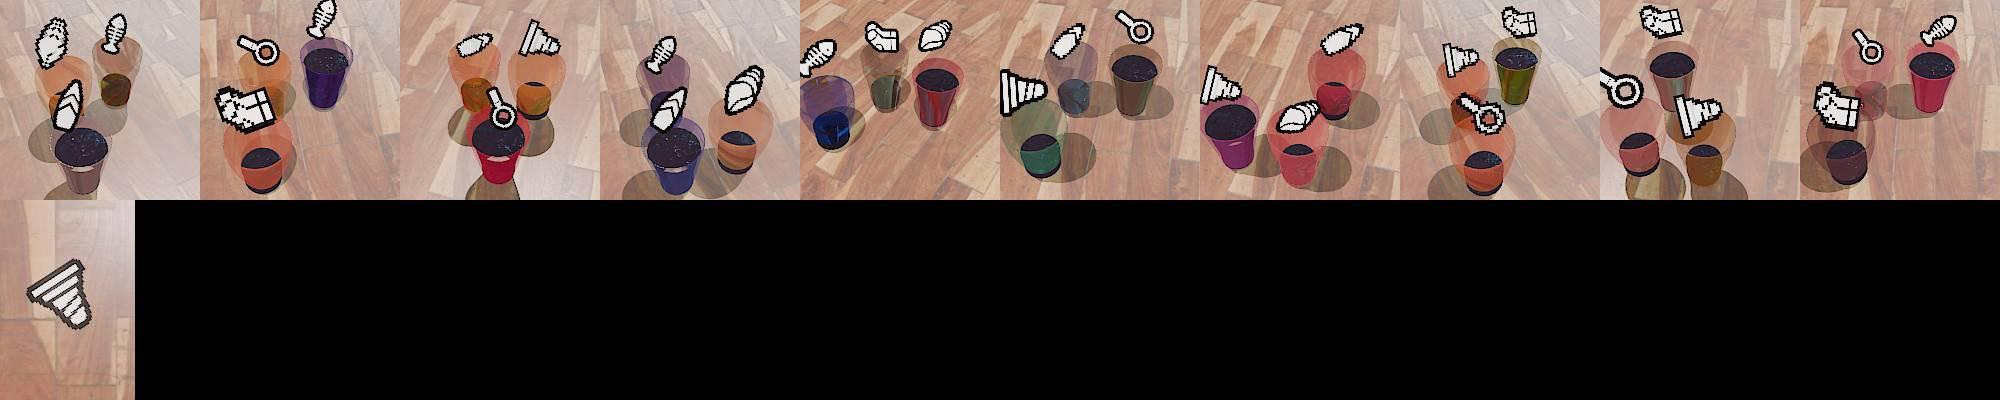icon: (26, 259, 93, 331), (214, 83, 279, 131), (1672, 92, 1724, 139), (999, 66, 1047, 116), (1814, 80, 1862, 130), (722, 64, 765, 116), (1457, 92, 1508, 135), (1598, 66, 1644, 111), (36, 17, 70, 70), (51, 78, 84, 131), (518, 19, 562, 57), (1319, 20, 1365, 57), (651, 84, 687, 130), (798, 37, 838, 78), (1639, 4, 1684, 39), (1276, 98, 1320, 134), (1114, 9, 1154, 46), (236, 34, 279, 69), (1048, 22, 1087, 60), (486, 84, 518, 130), (1441, 42, 1481, 79), (1202, 65, 1239, 104), (1920, 13, 1957, 50), (644, 36, 677, 75), (917, 17, 953, 52), (1500, 5, 1538, 38), (865, 19, 901, 54), (1851, 28, 1883, 66), (307, 0, 338, 39), (101, 13, 128, 54), (455, 32, 494, 59)
